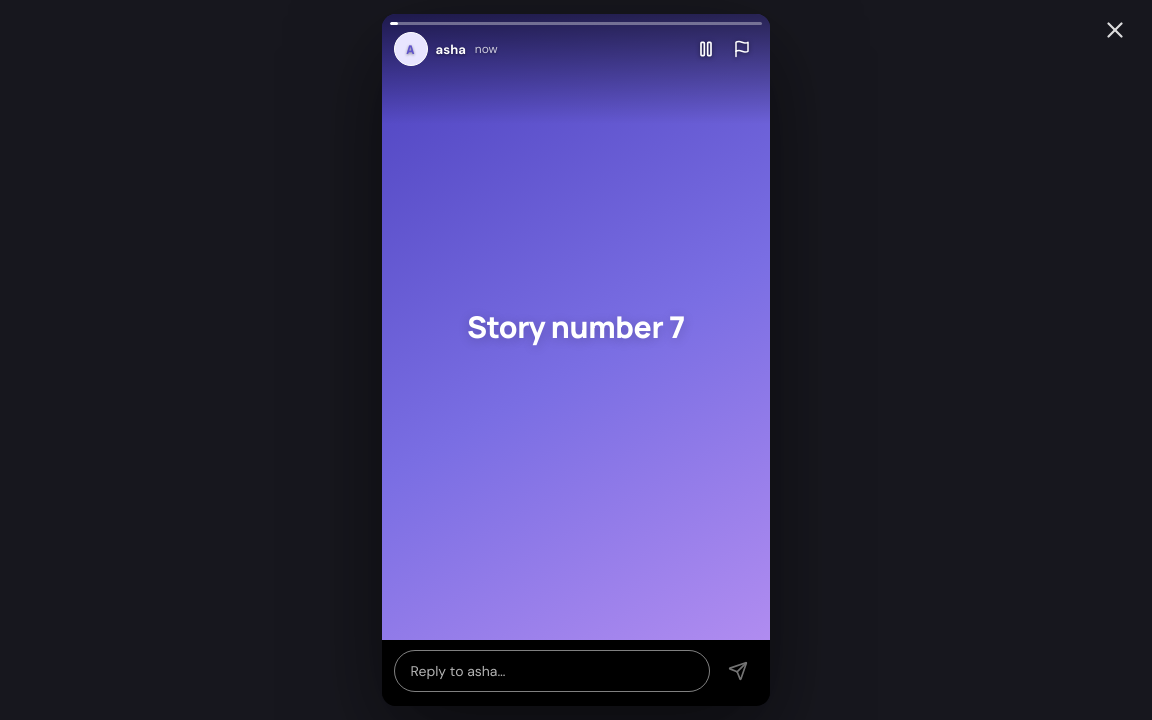
StoryViewer › sends a private reply
Type "So nice!" into the field labelled "Reply to asha". click: (552, 671)
box: [394, 650, 710, 692]
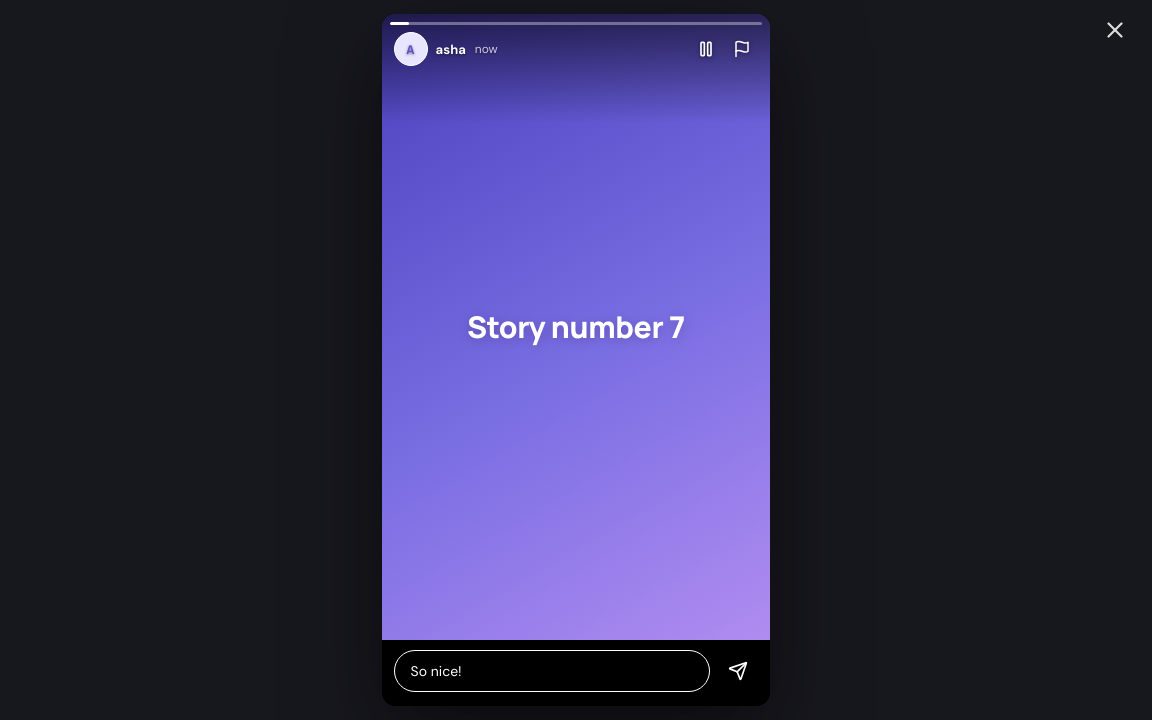
Click the button named "Send reply". click: (738, 671)
box: [718, 651, 758, 691]
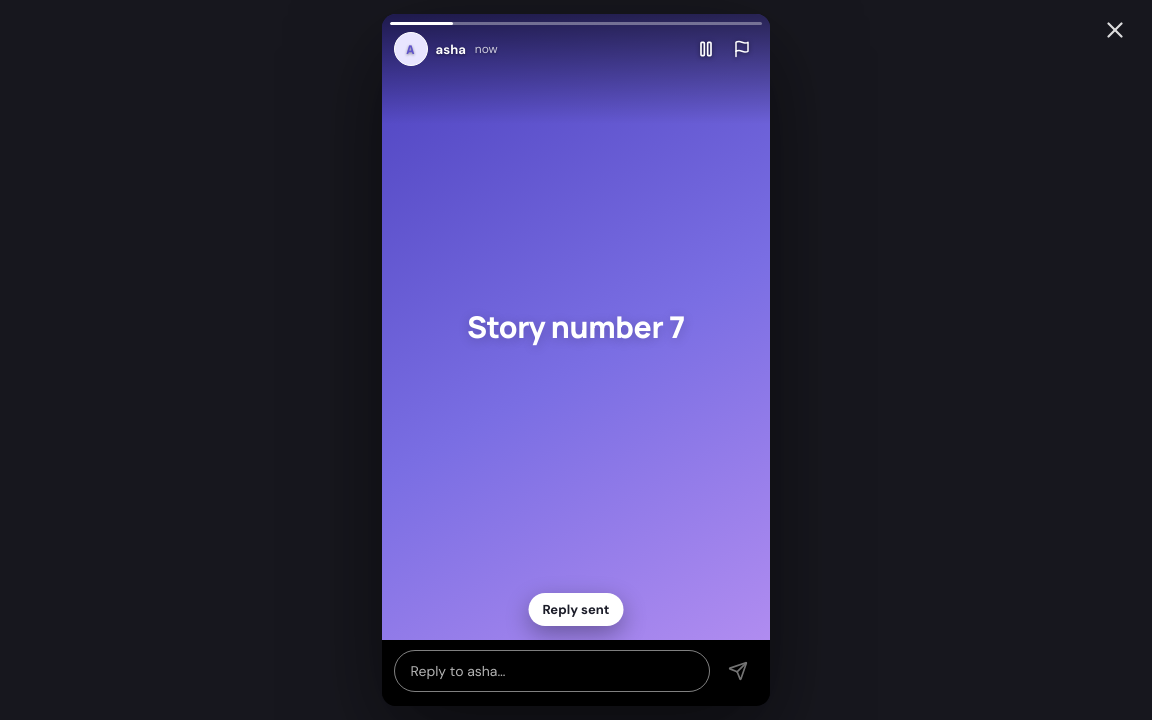
Now the text "Reply sent" is shown, box [528, 593, 623, 626]
